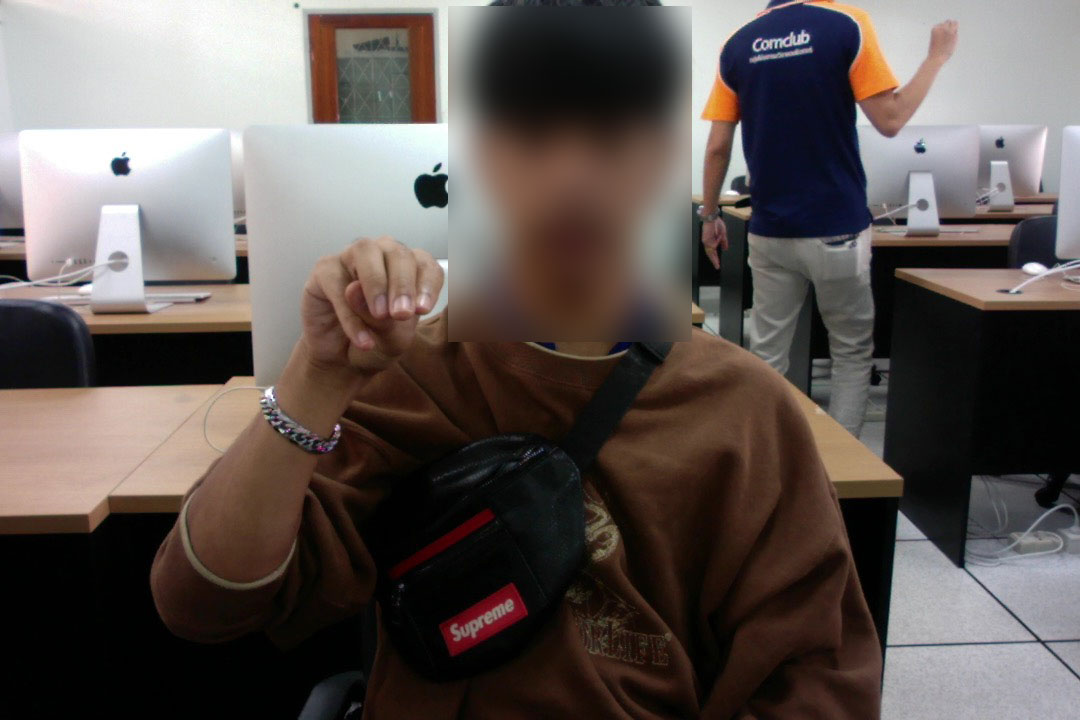mor: (298, 221, 447, 387)
